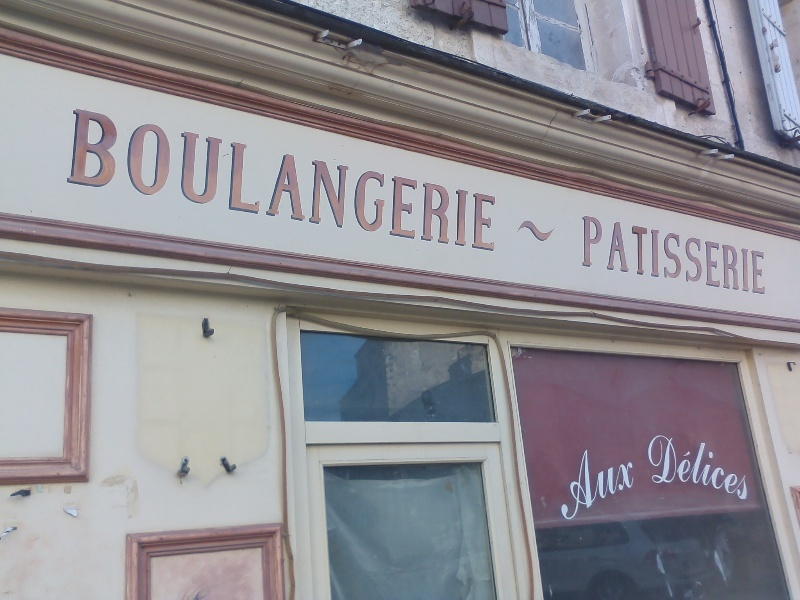text: (481, 107, 497, 252), (81, 107, 96, 252), (97, 107, 112, 252), (113, 107, 128, 252), (129, 107, 144, 252), (145, 107, 160, 252), (161, 107, 176, 252), (177, 107, 192, 252), (193, 107, 208, 252), (209, 107, 224, 252), (225, 107, 240, 252), (241, 107, 256, 252), (257, 107, 272, 252), (273, 107, 288, 252), (289, 107, 304, 252), (305, 107, 320, 252), (321, 107, 336, 252), (337, 107, 352, 252), (353, 107, 368, 252), (369, 107, 384, 252), (385, 107, 400, 252), (401, 107, 416, 252), (417, 107, 432, 252), (433, 107, 448, 252), (449, 107, 464, 252), (465, 107, 480, 252), (561, 436, 576, 524), (577, 436, 592, 524), (593, 436, 608, 524), (609, 436, 624, 524), (593, 215, 608, 295), (609, 215, 624, 295), (625, 215, 640, 295), (641, 215, 656, 295), (657, 215, 672, 295), (673, 215, 688, 295), (689, 215, 704, 295), (705, 215, 720, 295), (721, 215, 736, 295), (737, 215, 752, 295), (753, 215, 767, 295), (657, 429, 672, 502), (673, 429, 688, 502), (689, 429, 704, 502), (705, 429, 720, 502), (721, 429, 736, 502), (737, 429, 752, 502), (73, 107, 80, 252), (625, 436, 636, 524), (645, 429, 656, 502), (582, 215, 592, 295), (554, 436, 560, 524), (753, 429, 758, 502)
